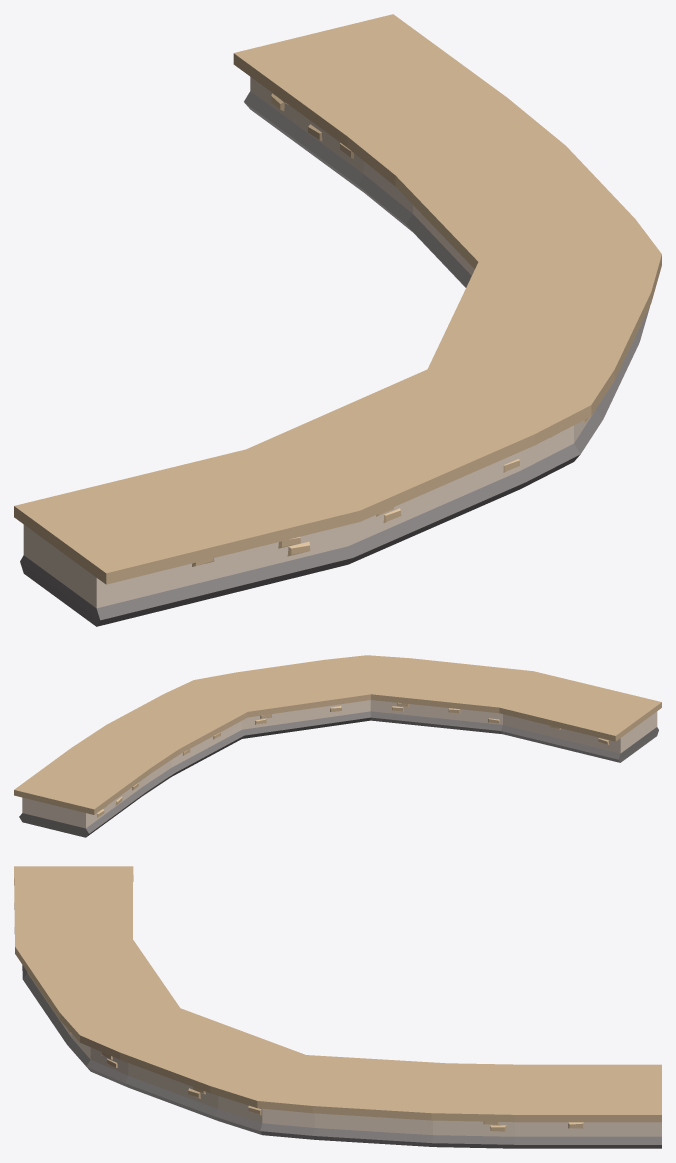
File: empire-aqueduct-water-trough-curve-empire.glb
The picture shows the model from 3 angles, top to bottom: view 1: azimuth 30°, elevation 25°; view 2: azimuth 150°, elevation 25°; view 3: azimuth 270°, elevation 25°; orthographic projection. The views are drawn at different scales.
Parts seen in each view (by area): view 1: SM_Aqueduct_Water_Trough_Curve_Empire; view 2: SM_Aqueduct_Water_Trough_Curve_Empire; view 3: SM_Aqueduct_Water_Trough_Curve_Empire.
Part boxes in pixels (x1=…): SM_Aqueduct_Water_Trough_Curve_Empire: x1=14, y1=14, x2=661, y2=626; SM_Aqueduct_Water_Trough_Curve_Empire: x1=14, y1=655, x2=661, y2=837; SM_Aqueduct_Water_Trough_Curve_Empire: x1=14, y1=866, x2=661, y2=1148.
Size of the model in its own units: 16.82 by 1.24 by 18.53.
